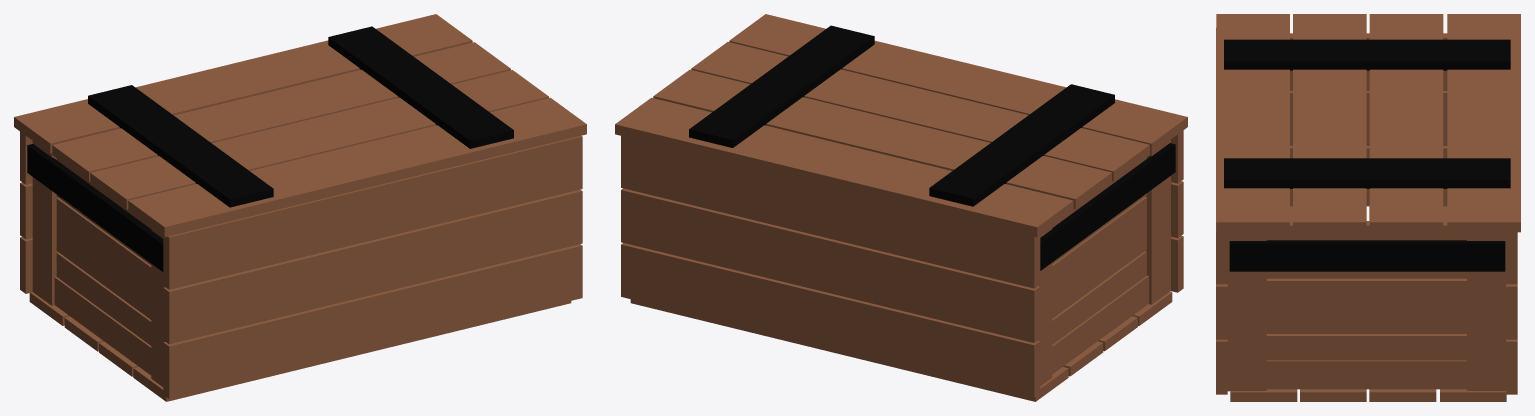
3 renders of one model, left to right at view 1: azimuth 30°, elevation 25°; view 2: azimuth 150°, elevation 25°; view 3: azimuth 270°, elevation 25°, orthographic.
Visible parts, largest first — view 1: Crate_Closed_01_mesh; view 2: Crate_Closed_01_mesh; view 3: Crate_Closed_01_mesh.
Part boxes in pixels (x1=…): Crate_Closed_01_mesh: x1=14, y1=14, x2=586, y2=401; Crate_Closed_01_mesh: x1=615, y1=14, x2=1187, y2=401; Crate_Closed_01_mesh: x1=1216, y1=14, x2=1520, y2=401.
Size of the model in its own units: 1.25 by 0.77 by 0.5356.
Materials: 1 (1 with a texture image).
